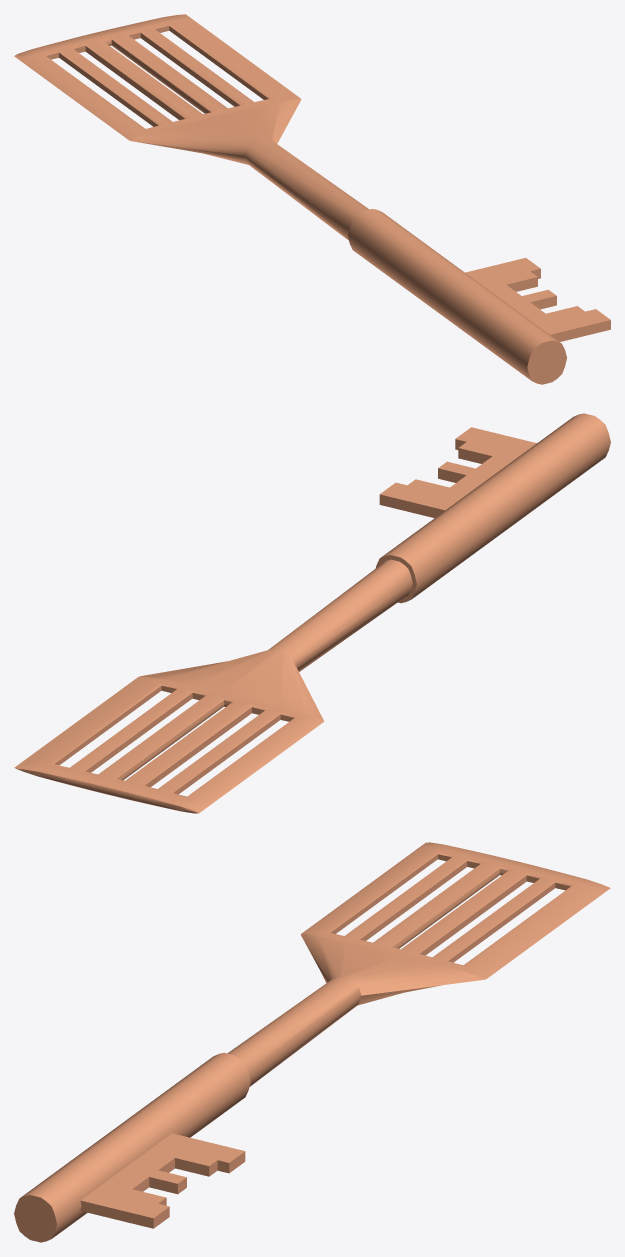
Rendered from Key.fbx.
3 renders of one model, top to bottom at view 1: azimuth 30°, elevation 25°; view 2: azimuth 150°, elevation 25°; view 3: azimuth 330°, elevation 25°, orthographic. The views are drawn at different scales.
Visible parts, largest first — view 1: Key; view 2: Key; view 3: Key.
Part boxes in pixels (box(x1,y1,x2,y2)): Key: box(14, 14, 610, 384); Key: box(14, 413, 610, 813); Key: box(14, 842, 610, 1242).
Bounding box in the file's own units: 44.23 × 10.39 × 199.
